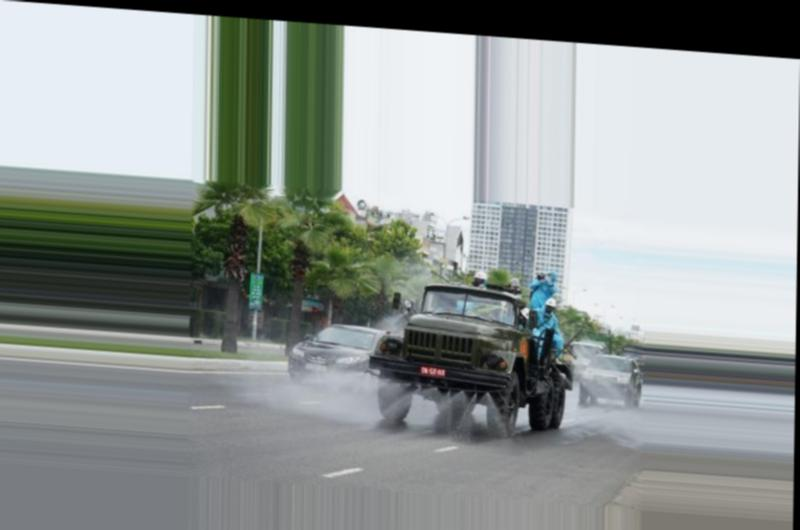License_Plate: (299, 363, 330, 378), (417, 365, 448, 379)
